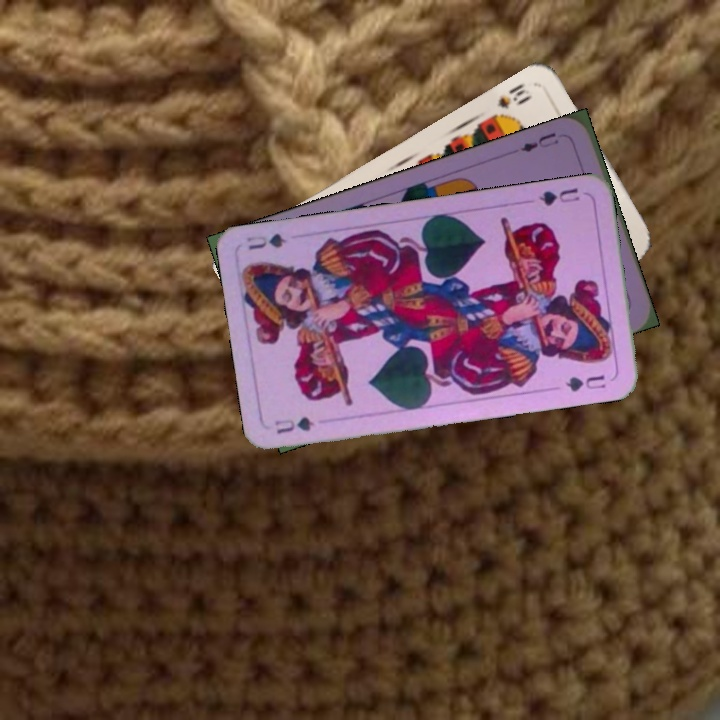EU: (516, 128, 568, 155)
GU: (535, 183, 582, 209), (270, 412, 316, 437)
S10: (492, 79, 535, 112)
